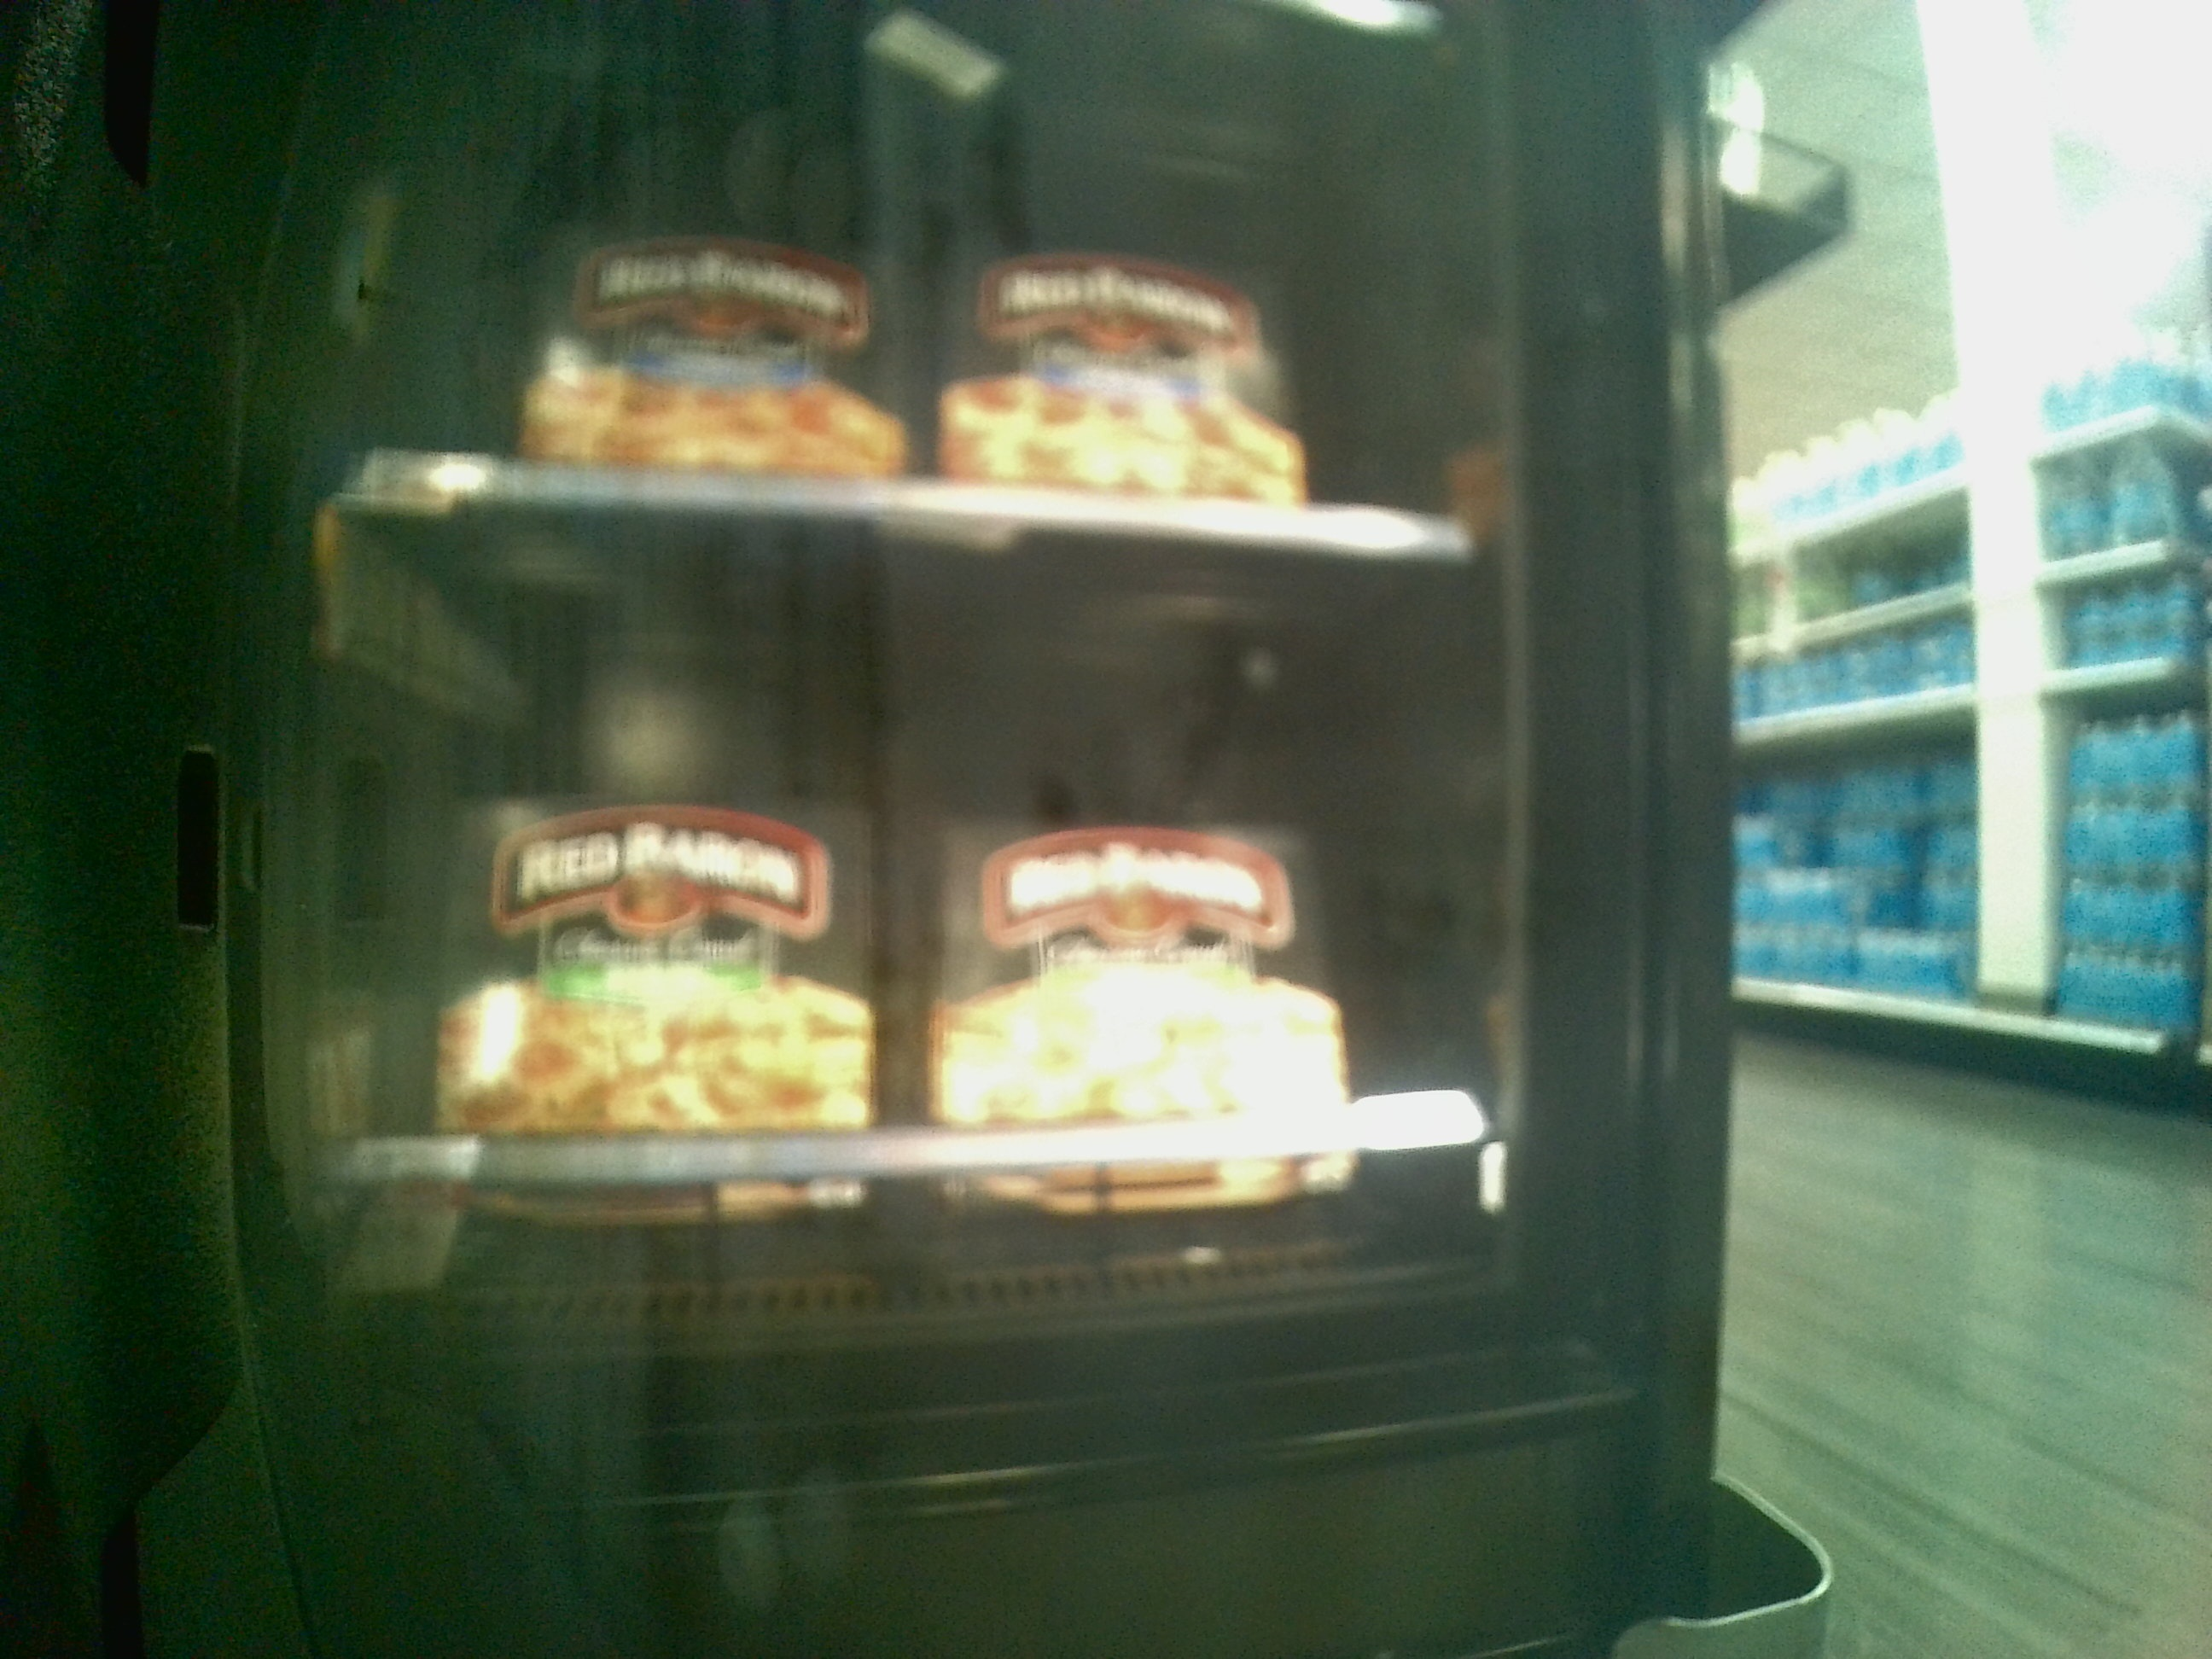shelf: (338, 551, 1503, 1267), (319, 17, 1496, 558)
